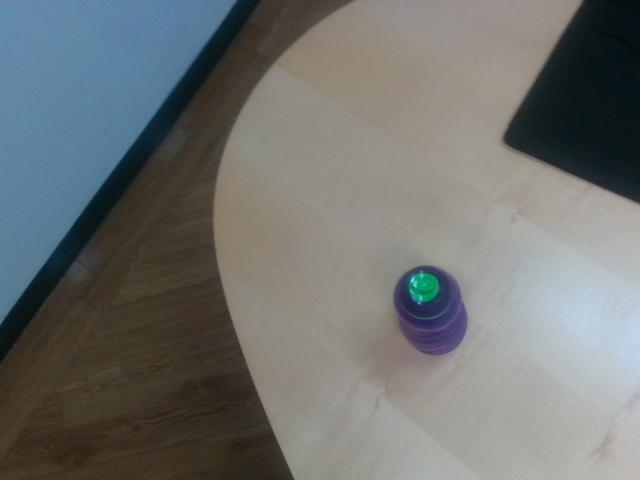bottle: (394, 265, 469, 355)
